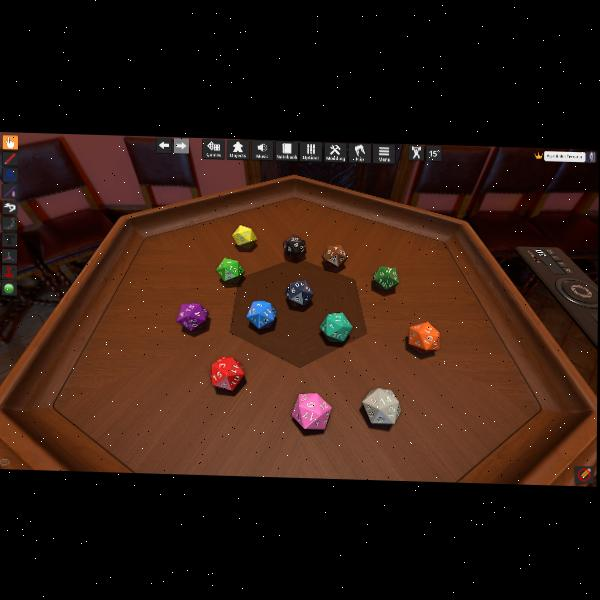d20: (292, 390, 330, 428), (362, 387, 398, 424), (211, 356, 244, 390), (409, 320, 440, 353), (319, 311, 351, 341), (246, 299, 277, 329), (176, 302, 207, 332), (284, 279, 311, 307), (217, 257, 245, 283), (373, 265, 397, 290), (233, 223, 257, 247), (322, 244, 345, 268), (283, 234, 306, 257)
